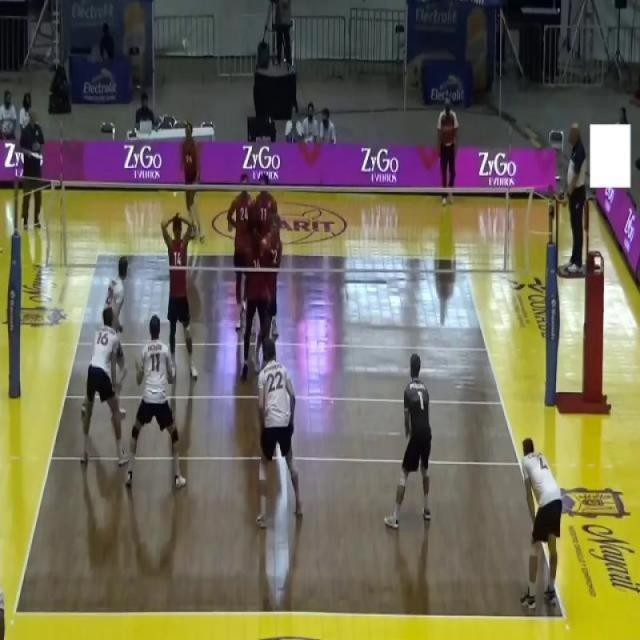volleyball: (180, 38, 190, 52)
